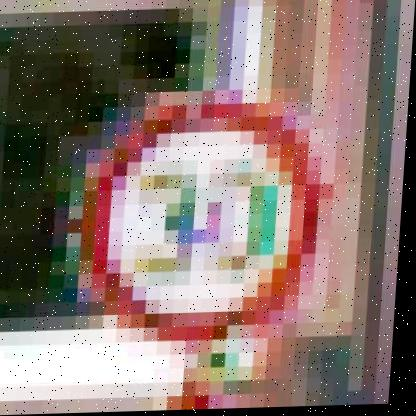Speed Limit -30-: (67, 93, 349, 353)
